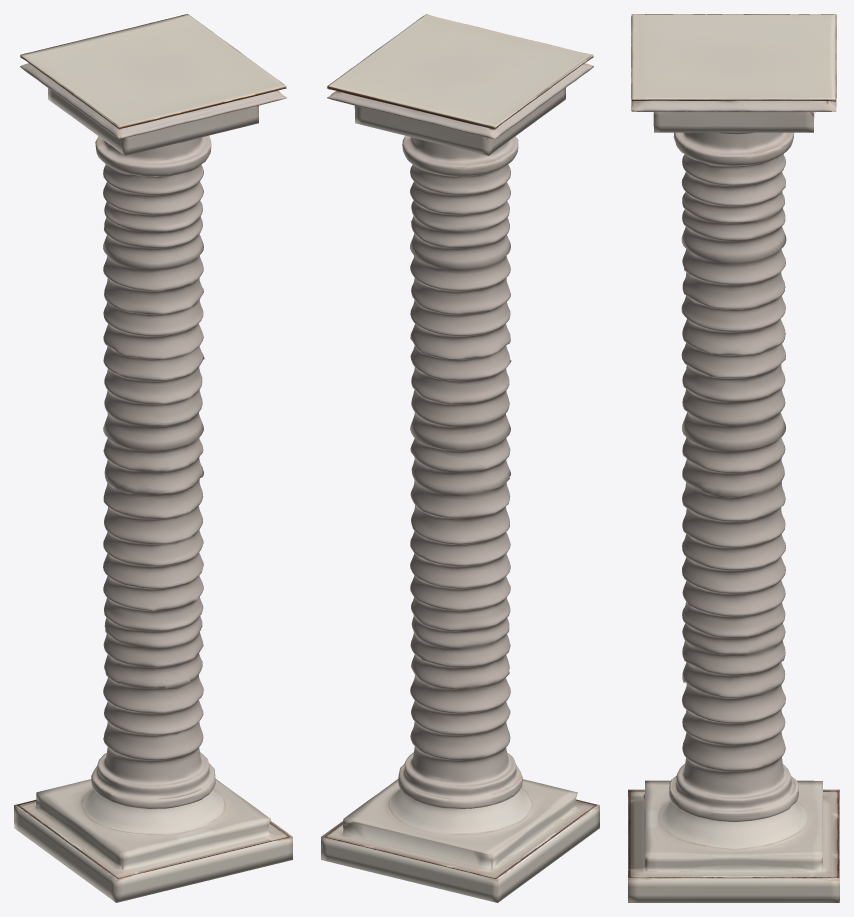
The model's file is primeiro.glb.
3 renders of one model, left to right at view 1: azimuth 30°, elevation 25°; view 2: azimuth 150°, elevation 25°; view 3: azimuth 270°, elevation 25°, orthographic. The views are drawn at different scales.
Parts seen in each view (by area): view 1: model; view 2: model; view 3: model.
Boxes of the visible parts, x1=… form: model: x1=14, y1=14, x2=292, y2=902; model: x1=321, y1=14, x2=599, y2=902; model: x1=628, y1=14, x2=839, y2=902.
Size of the model in its own units: 0.4525 by 1.9 by 0.453.
1 material, 1 textured.
